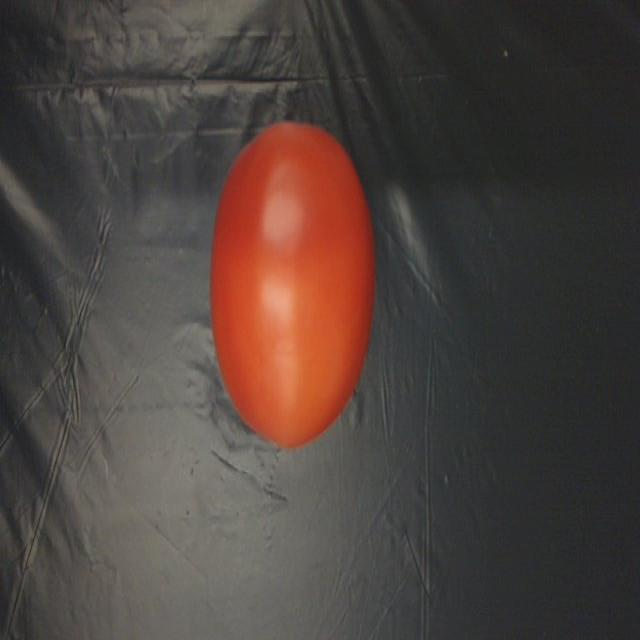sari: (204, 116, 373, 467)
